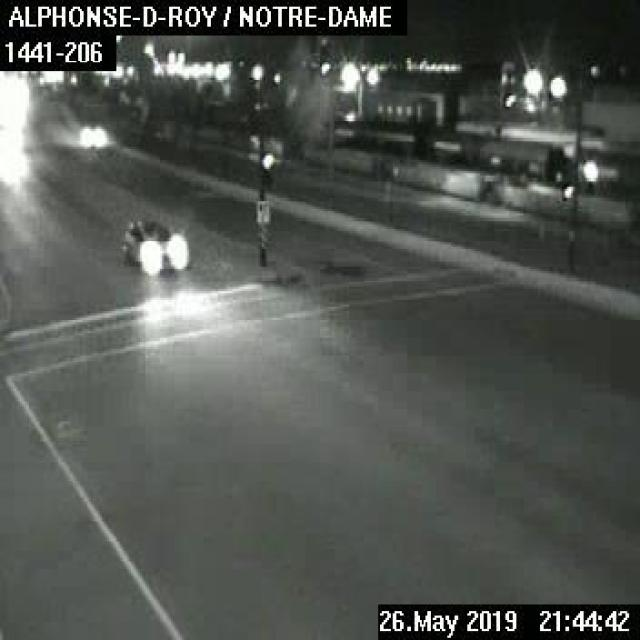vehicle: (118, 216, 186, 271), (76, 120, 105, 142)
